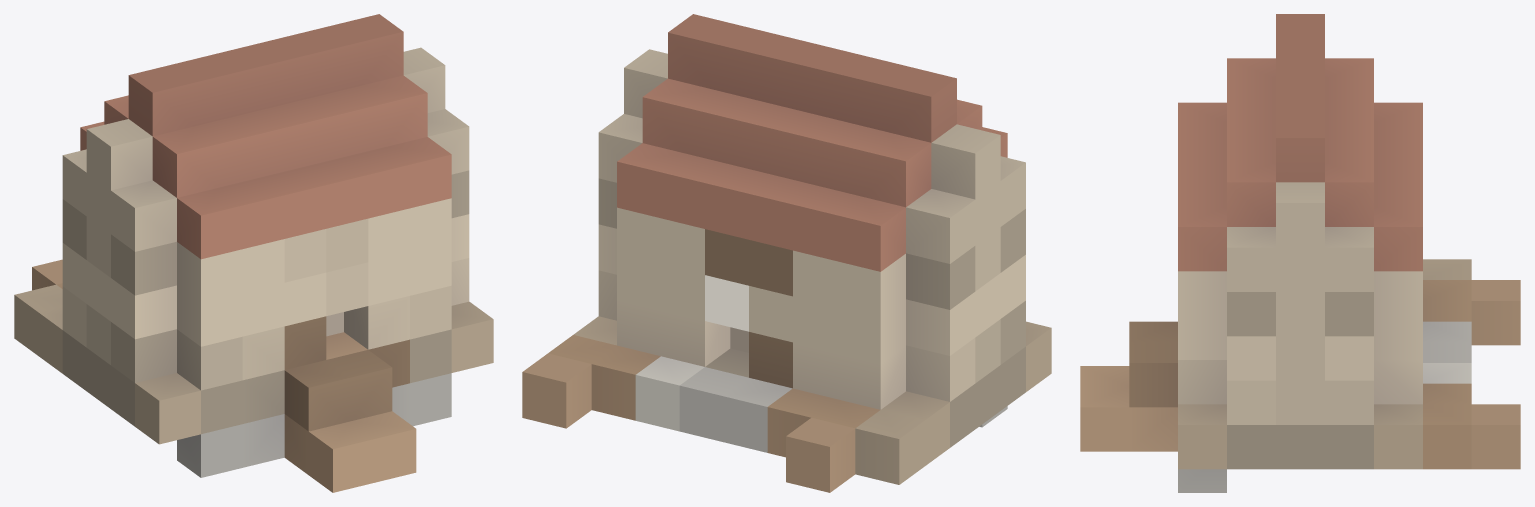
The model's file is depot.l2.lite.glb.
The picture shows the model from 3 angles, left to right: view 1: azimuth 30°, elevation 25°; view 2: azimuth 150°, elevation 25°; view 3: azimuth 270°, elevation 25°; orthographic projection. The views are drawn at different scales.
Parts seen in each view (by area): view 1: depot; view 2: depot; view 3: depot.
Part boxes in pixels (x1,y1,x2,y2): depot: (14,14,493,492); depot: (522,14,1051,492); depot: (1080,14,1520,492).
Size of the model in its own units: 4 by 4 by 4.5.
